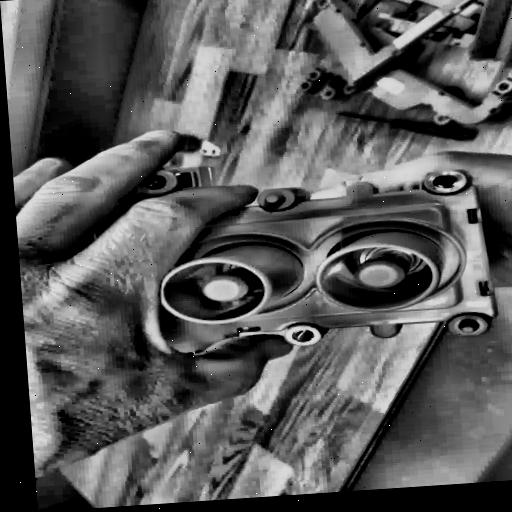connector: (75, 151, 512, 387)
